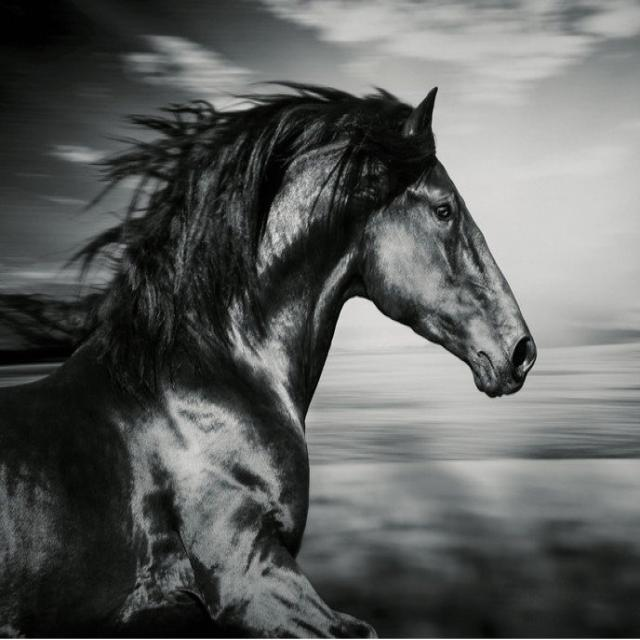Horse: (0, 63, 541, 639)
